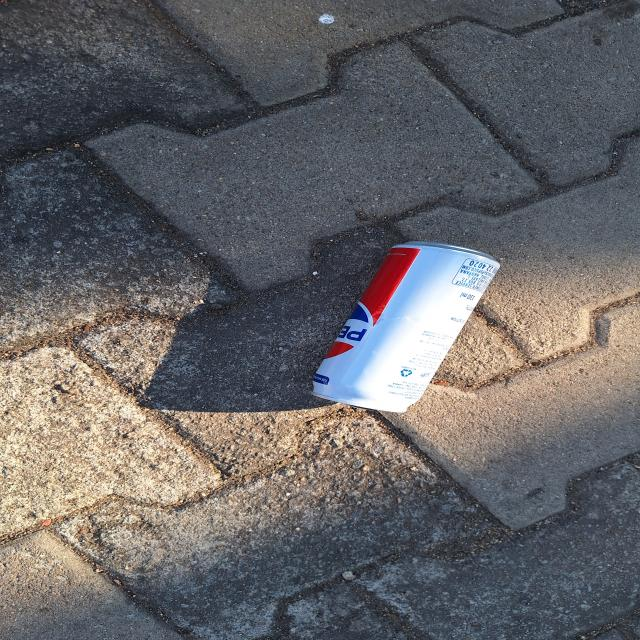Pepsi Retro: (307, 238, 503, 411)
